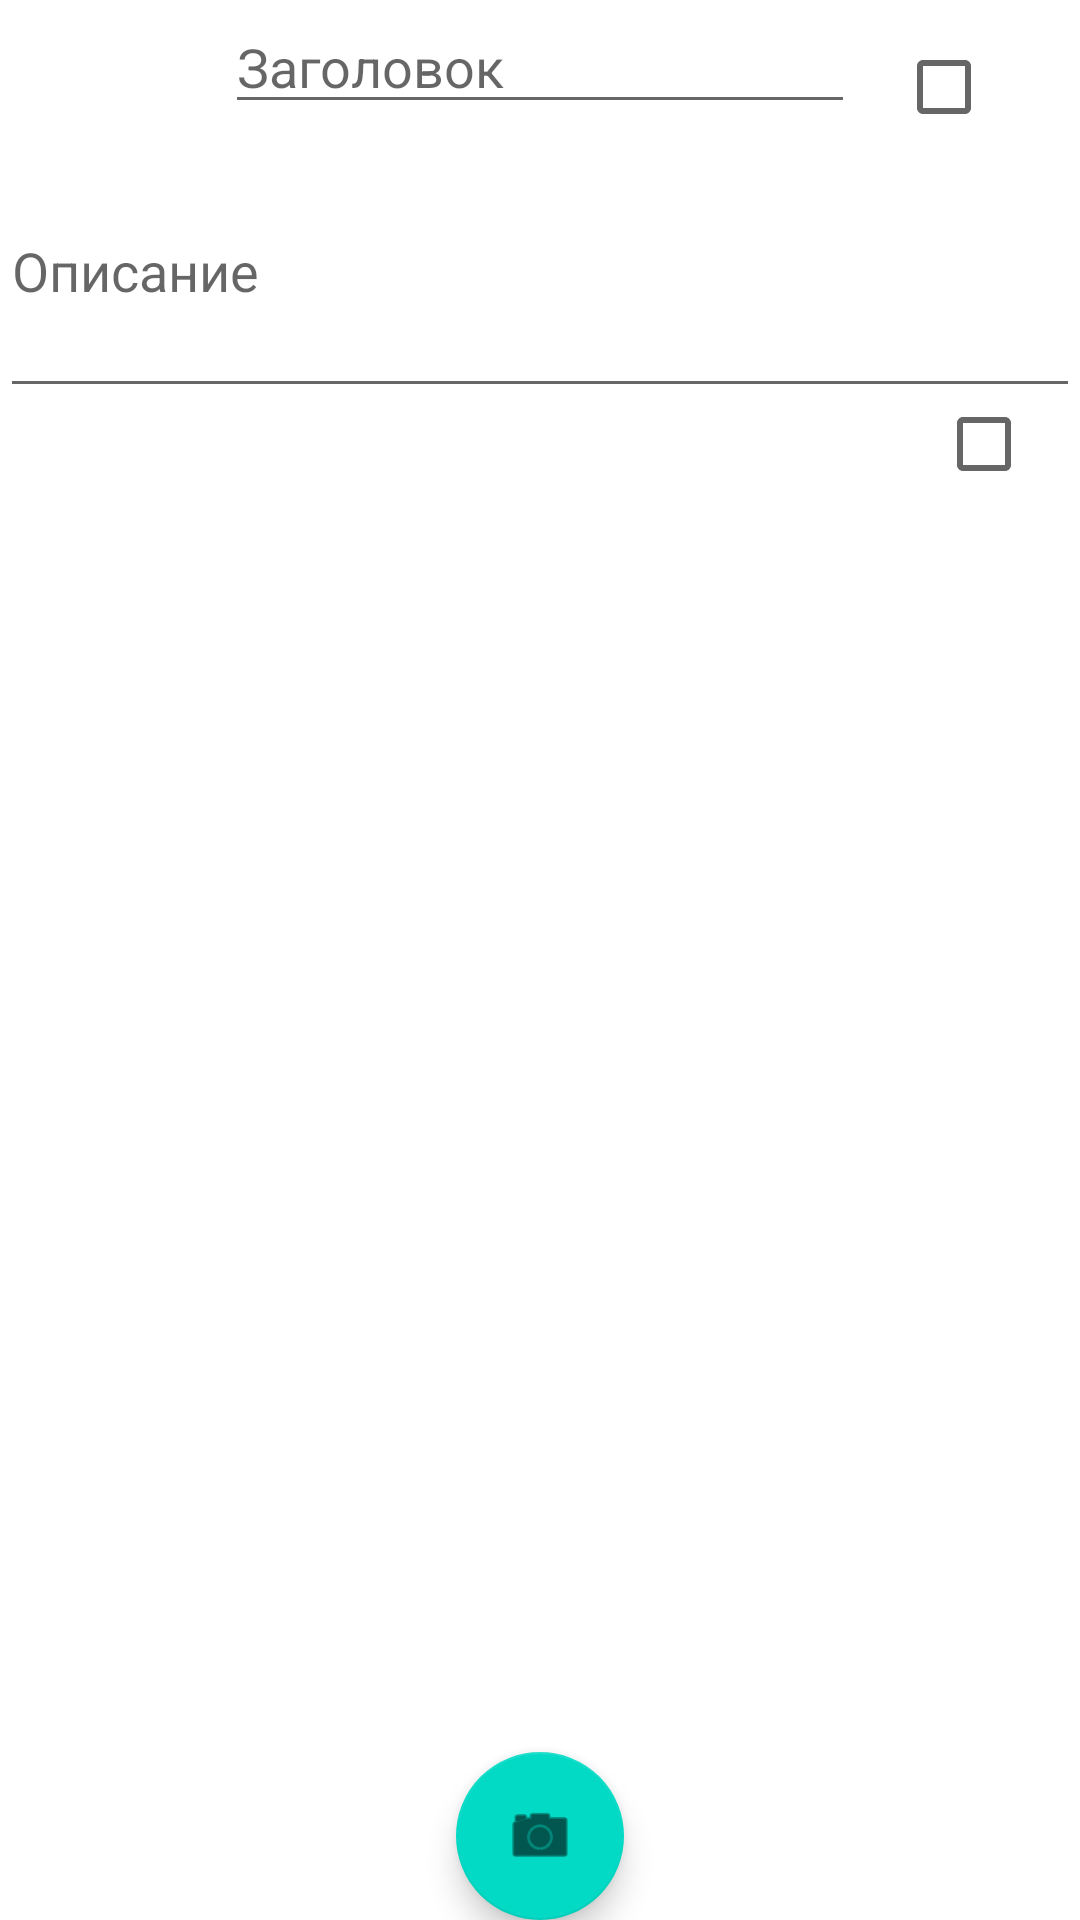

Icons on this 1080×1920 Android screen, each with its box as box=[x1, y1, x2, y2]:
Фото: box=[456, 1752, 624, 1920]
